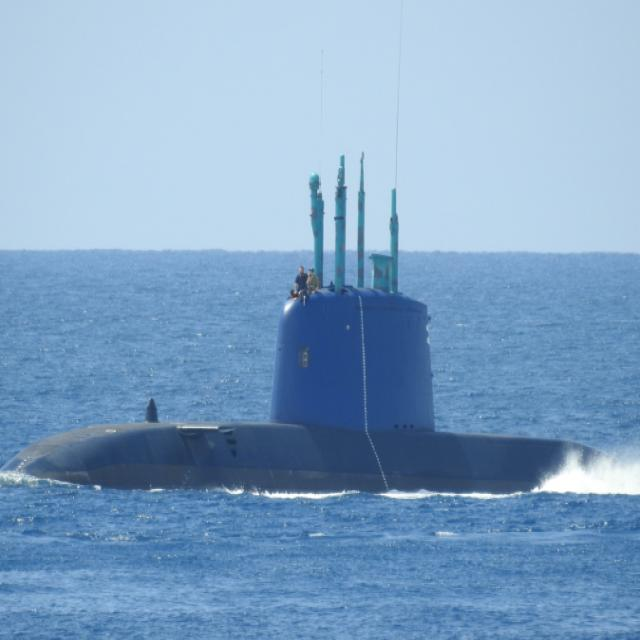submarine: (1, 147, 640, 480)
